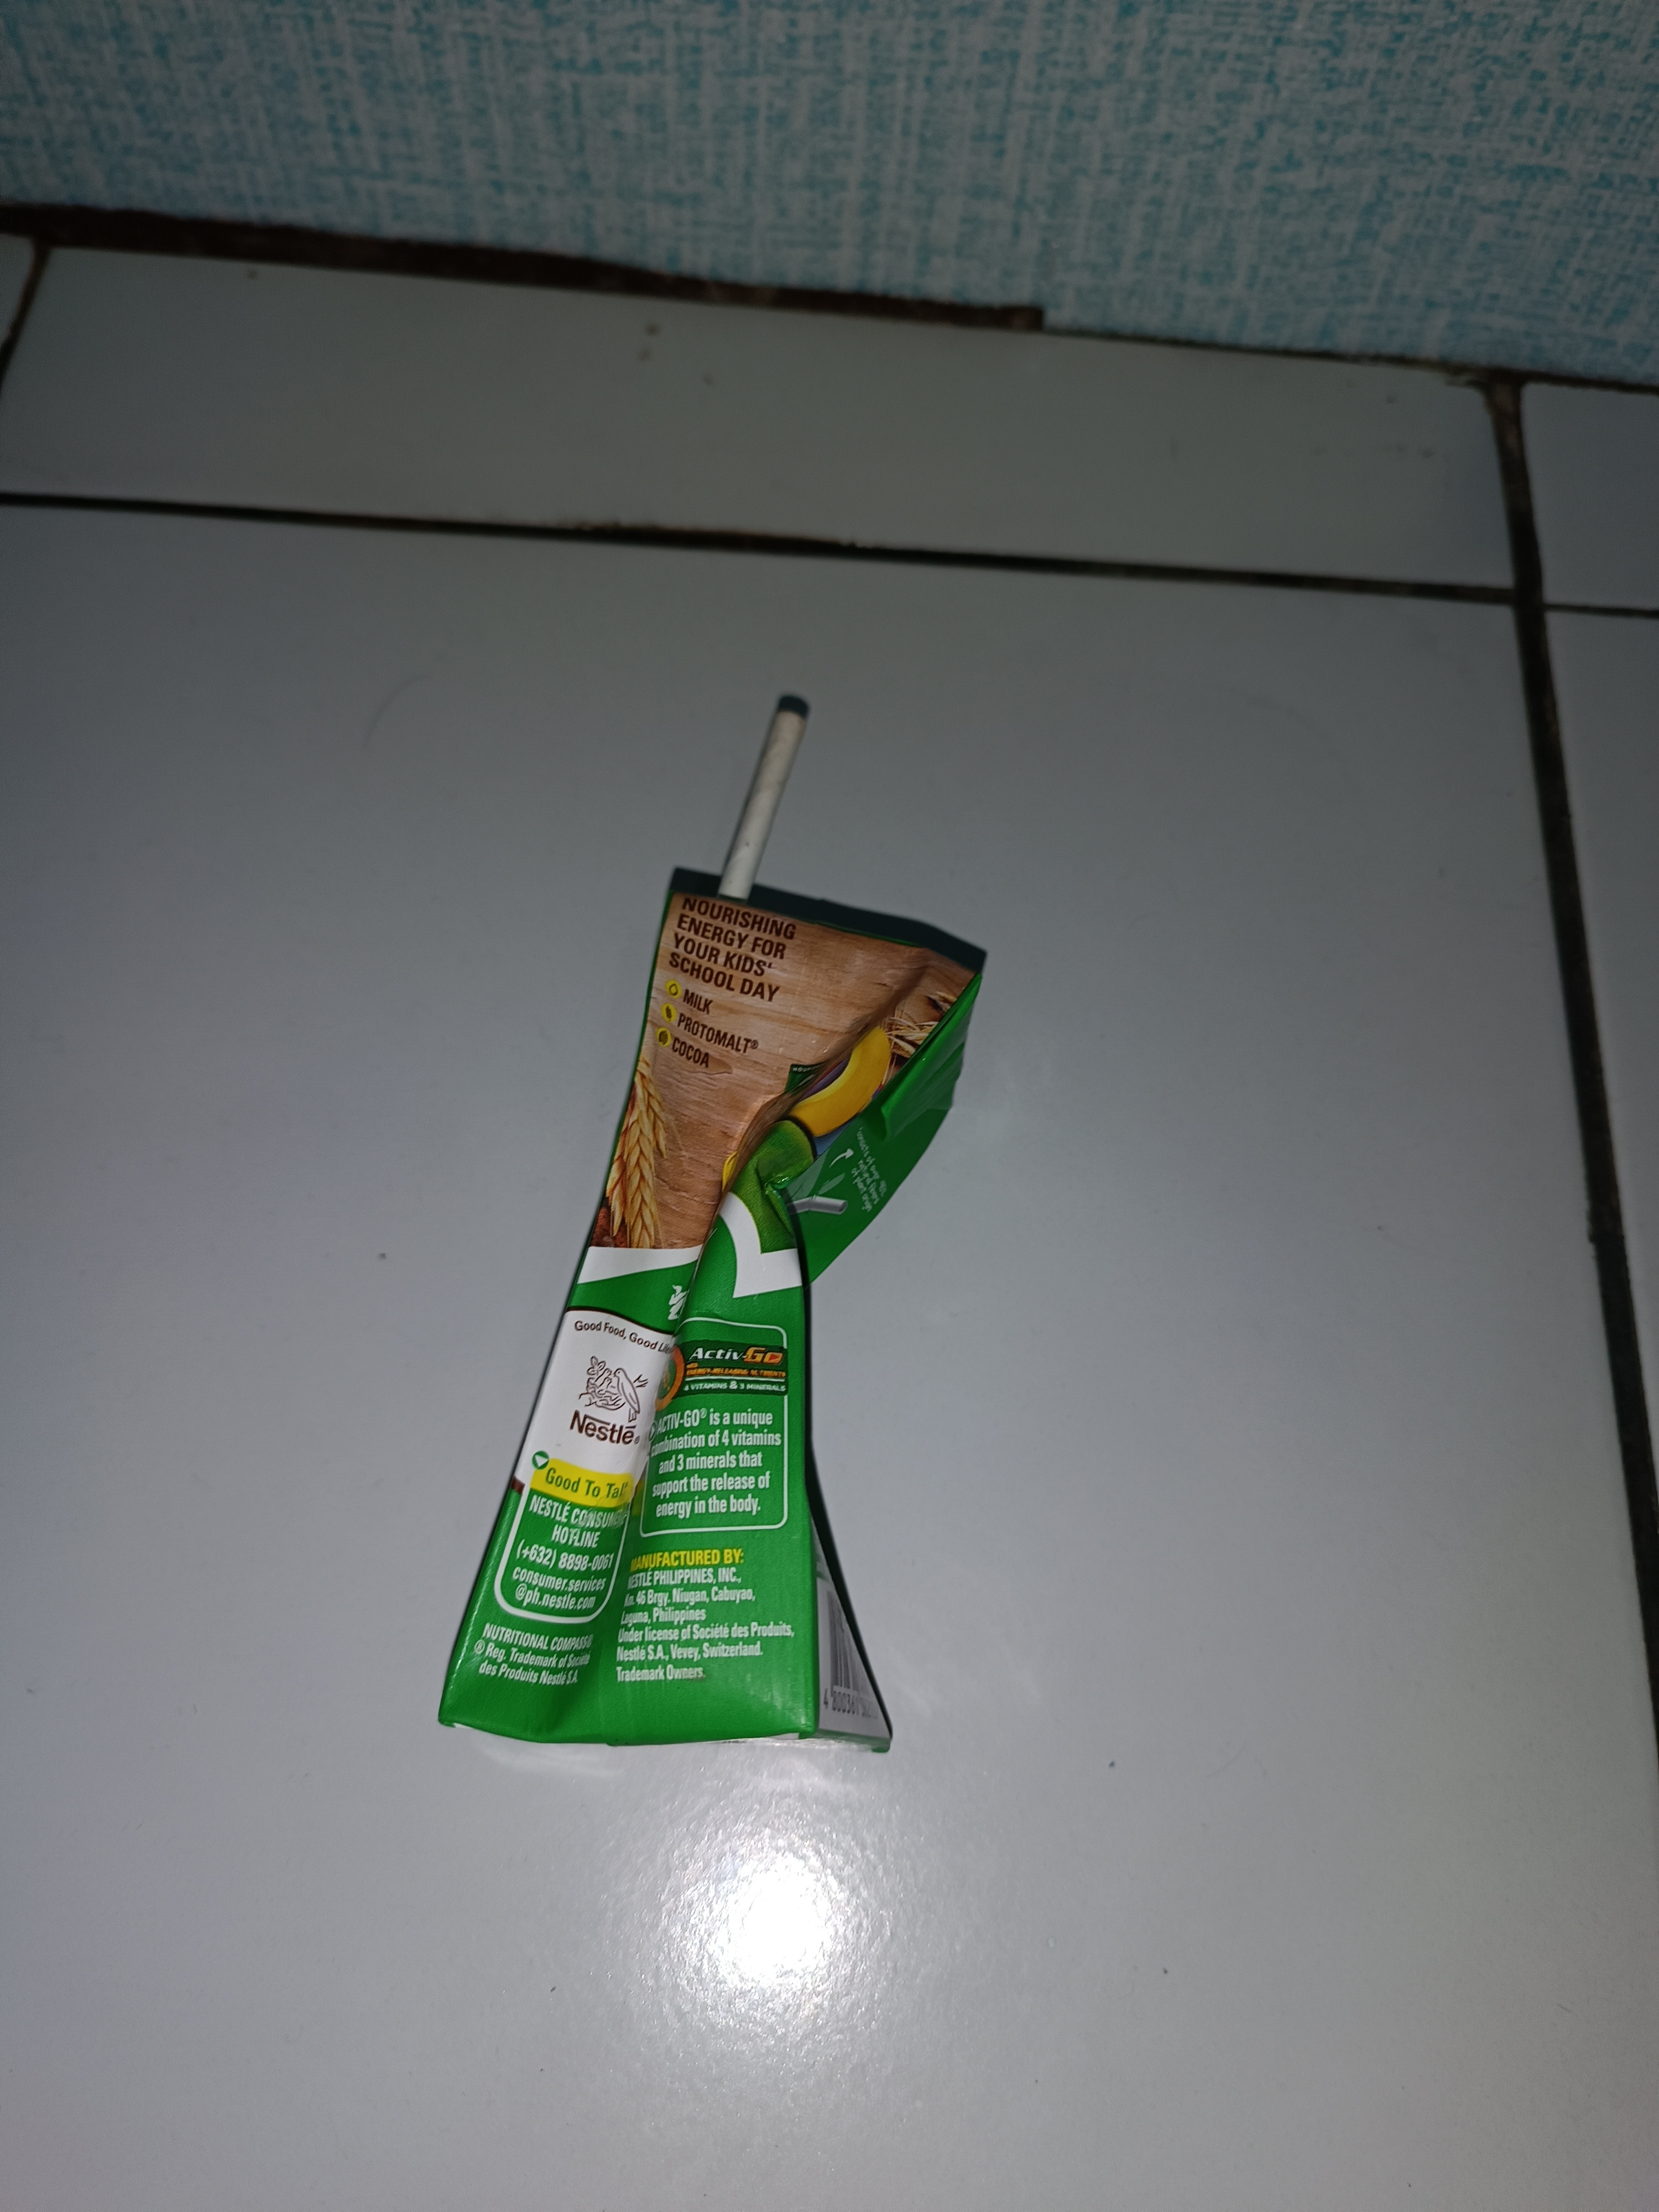Juice Box: (317, 681, 1028, 1825)
